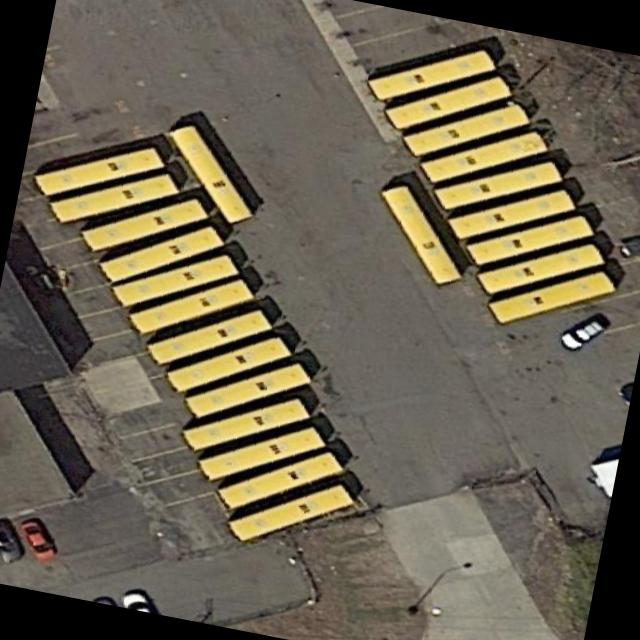large-vehicle: (168, 126, 255, 227), (381, 185, 466, 287), (214, 450, 349, 511), (180, 395, 315, 455), (486, 268, 617, 328), (229, 483, 357, 544), (96, 225, 228, 283), (163, 335, 294, 393), (184, 362, 315, 420), (197, 425, 328, 483), (80, 196, 212, 253), (418, 131, 551, 187), (463, 215, 598, 270), (401, 103, 533, 159), (145, 309, 276, 365), (381, 76, 514, 131), (475, 243, 608, 298), (110, 254, 243, 309), (128, 279, 258, 335), (35, 145, 169, 199), (367, 49, 498, 103), (432, 160, 565, 212), (445, 190, 578, 242), (48, 173, 180, 224)
small-vehicle: (555, 317, 614, 354), (20, 520, 61, 562), (0, 519, 26, 566), (614, 237, 640, 258)
